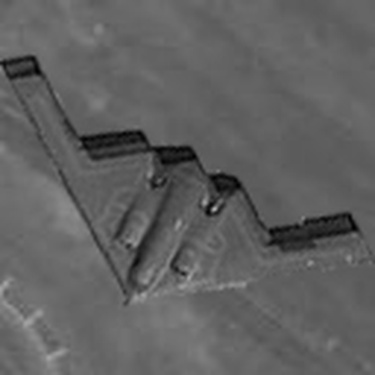airplane: (1, 34, 373, 317)
